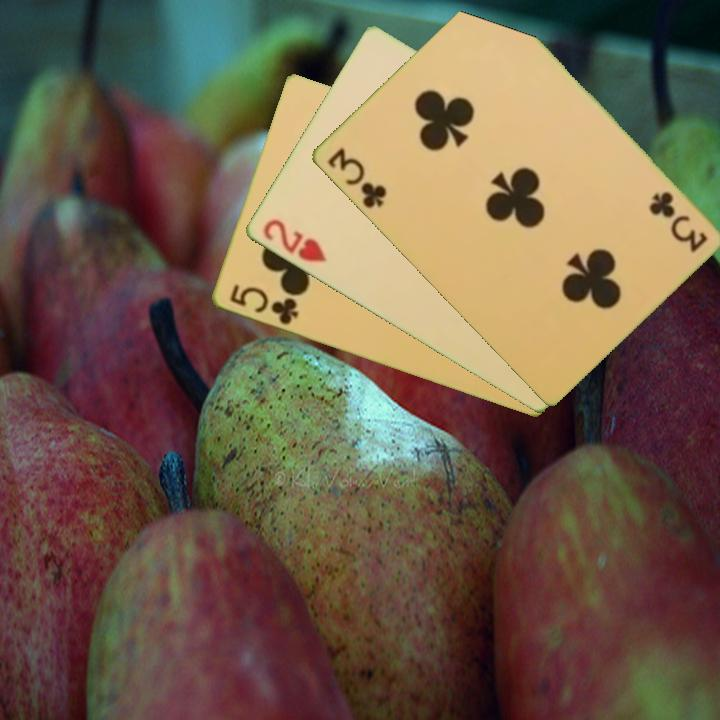2h: (259, 215, 329, 266)
3c: (323, 144, 389, 211), (645, 188, 710, 255)
5c: (225, 281, 301, 328)
